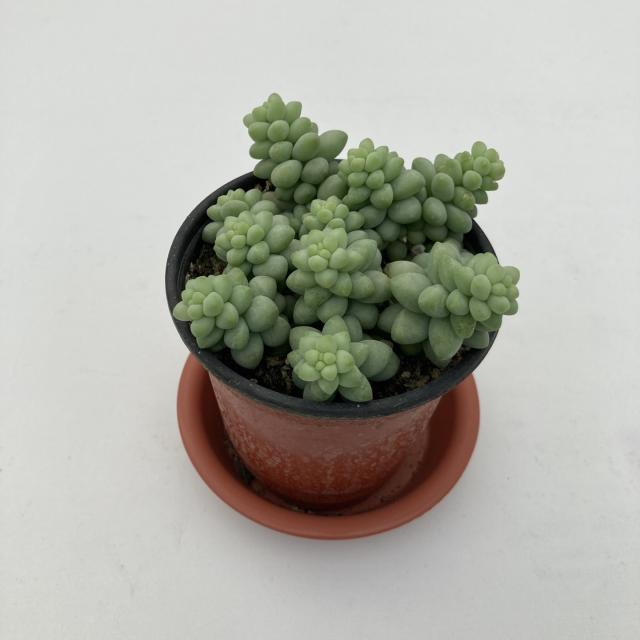Sedum: (378, 239, 520, 368), (316, 139, 430, 260), (172, 269, 291, 369), (399, 141, 505, 244), (286, 226, 392, 329), (244, 94, 348, 190), (288, 316, 399, 402), (202, 189, 295, 282), (304, 205, 338, 229)
